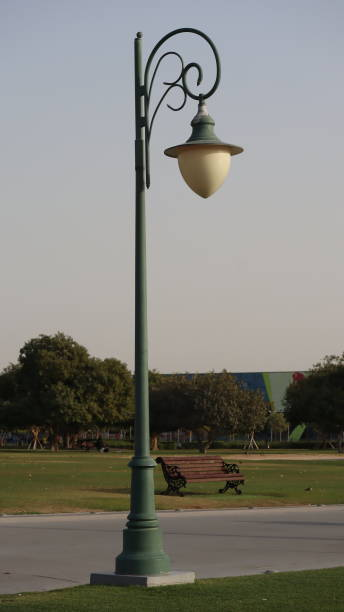light_pole: (125, 48, 163, 568)
